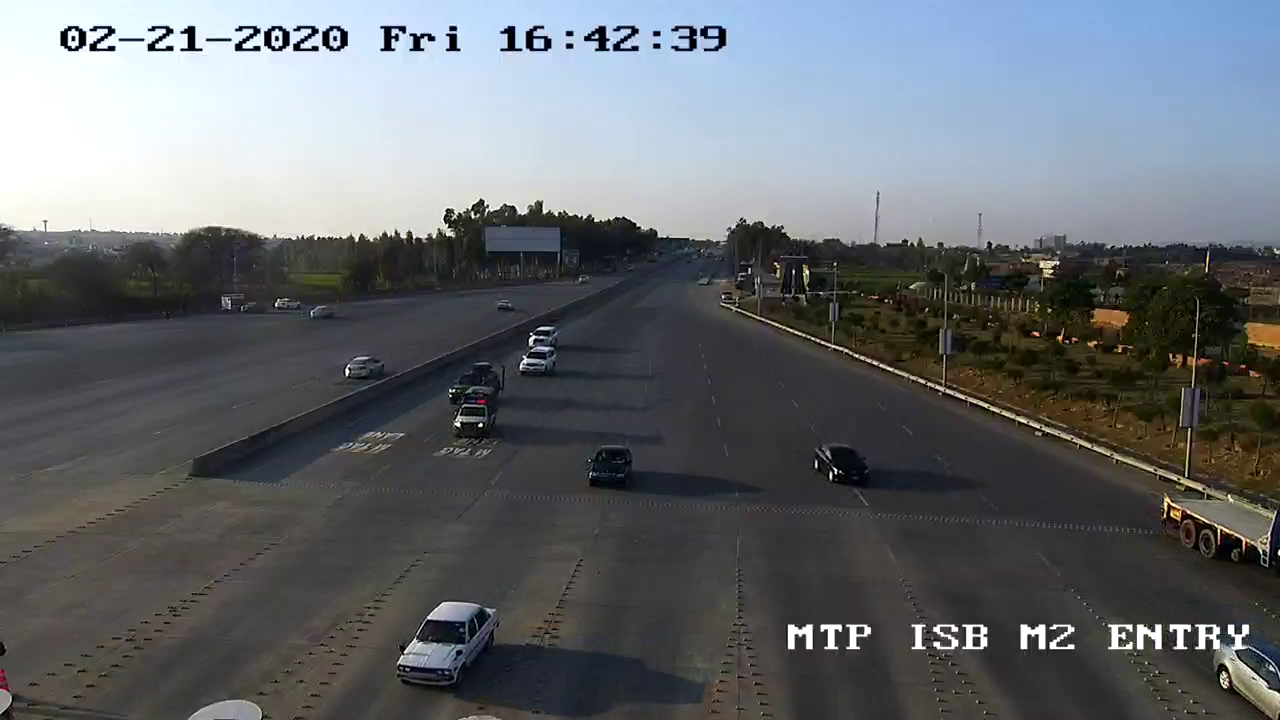f1: (380, 593, 505, 694), (802, 435, 874, 489), (579, 438, 639, 494)
